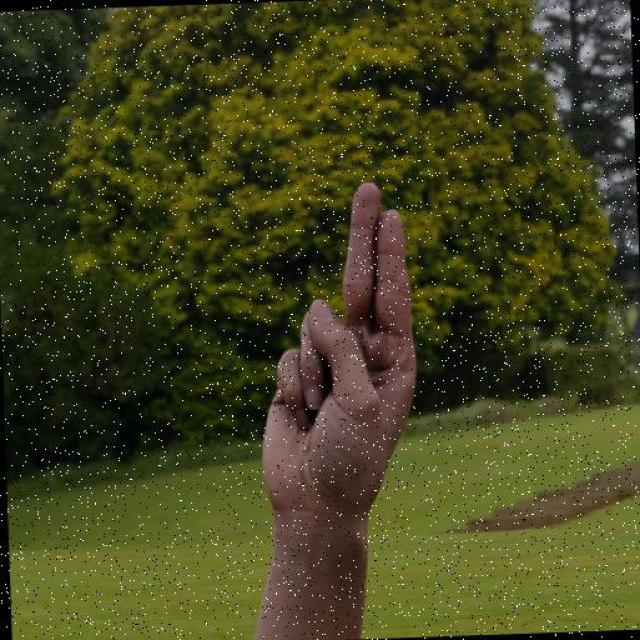U: (241, 172, 430, 518)
